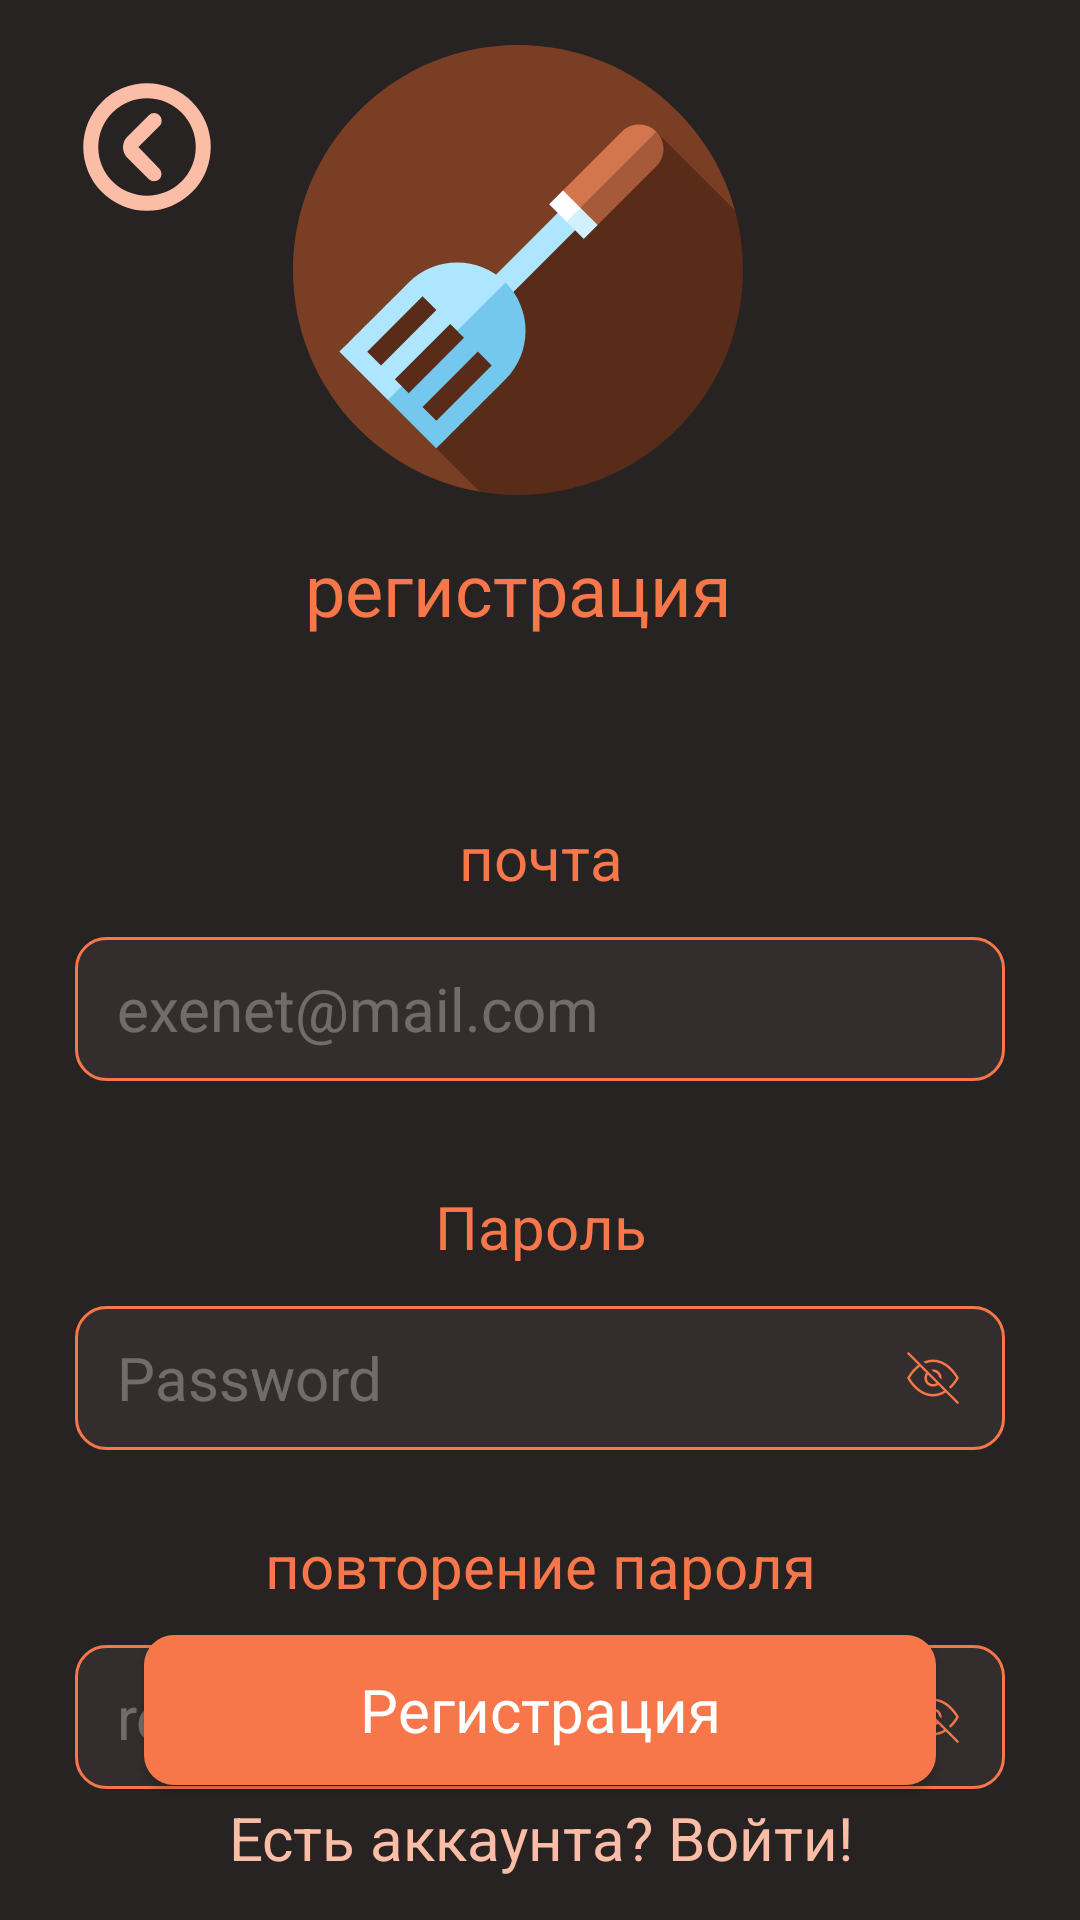

Point at icon controls on the screen. Image size 1080×1920, points as (x=x, y=y).
back: (x=147, y=147)
